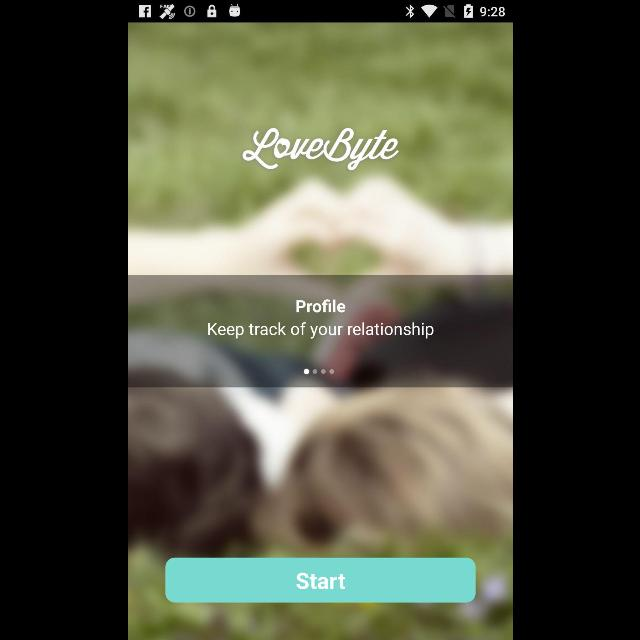backgroundimage: (128, 22, 512, 640)
image: (242, 128, 398, 170)
pageindicator: (302, 368, 334, 376)
text: (207, 322, 433, 340), (295, 299, 345, 313)
textbutton: (165, 558, 475, 602)
uppertaskbar: (128, 1, 512, 23)
